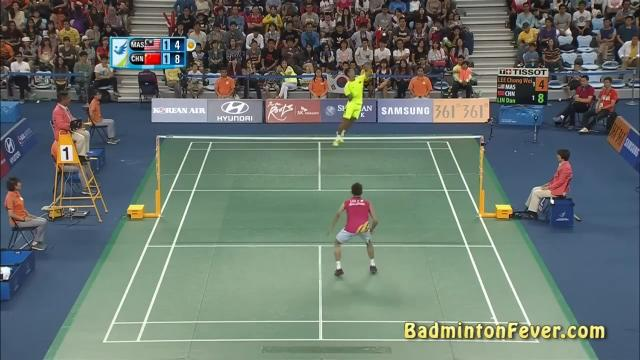Shuttlecock: (382, 30, 388, 38)
